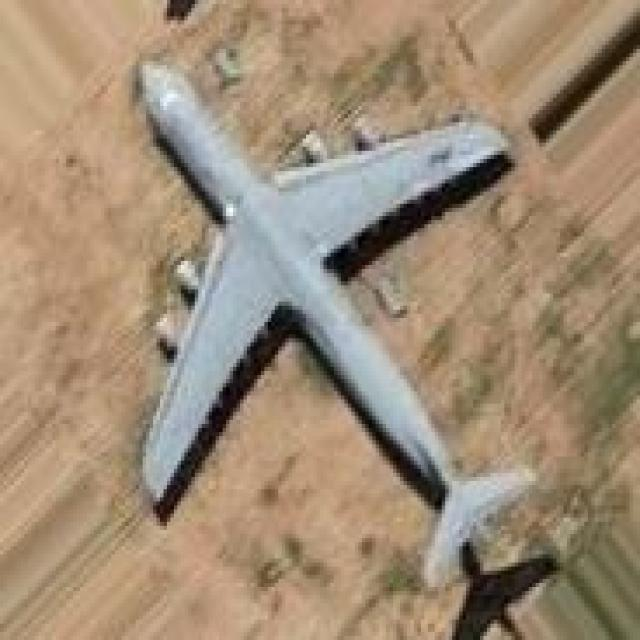C-5_TopDown: (128, 55, 563, 640)
